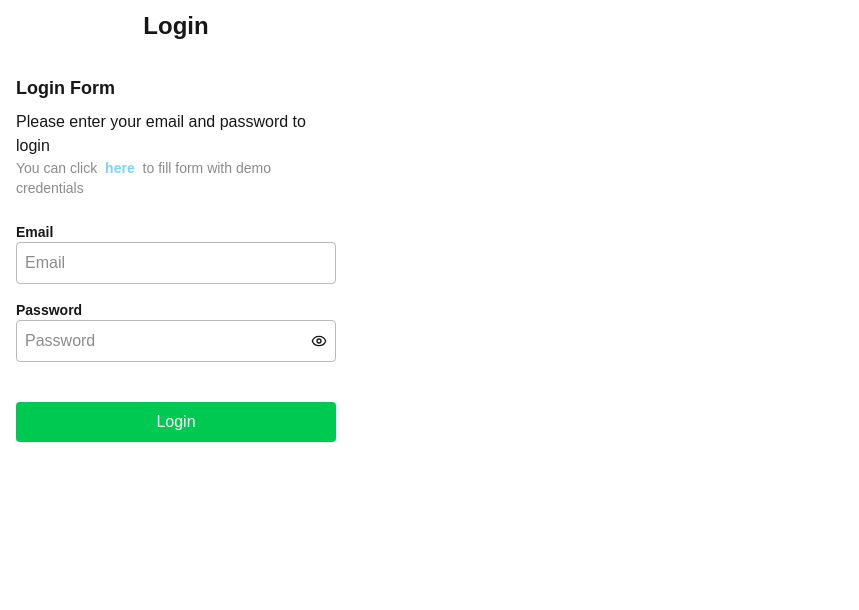
Test: Auth Flow › should login with demo credentials
# Fill in credentials
Click the button with aria-label "Fill form with demo credentials".
click(120, 168)  # box [101,158,139,178]
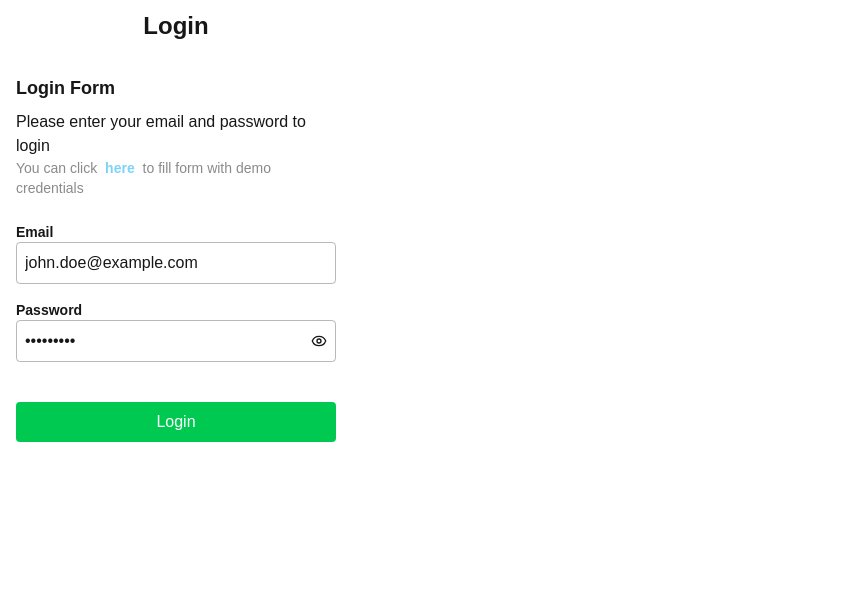
Expected: the submit button is enabled
Expected: the field named "email" holds "john.doe@example.com", [25,251,327,275]
Expected: the password field named "password" holds "Admin123@", [25,329,303,353]
# Wait for button to be enabled
Click the submit button.
click(176, 422)  # box [16,402,336,442]
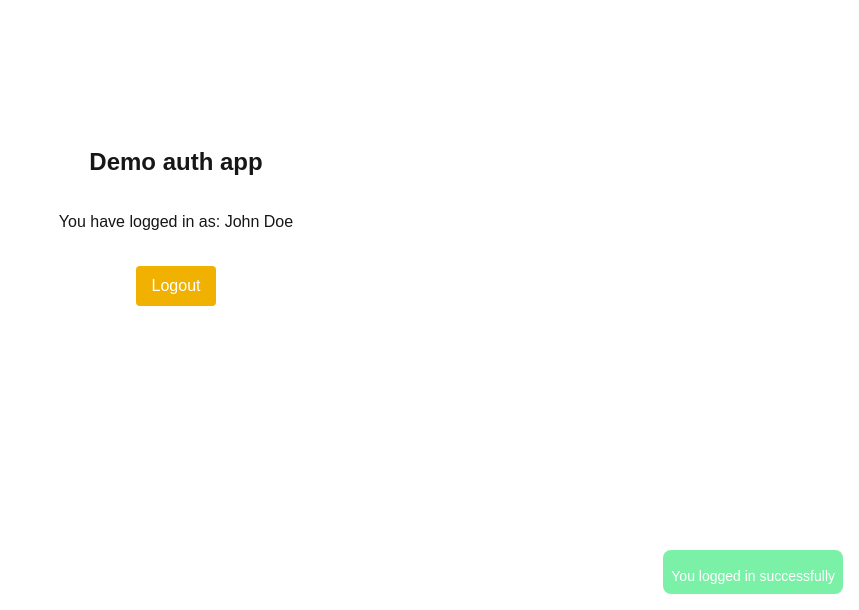
Expected: the text "You logged in successfully" is shown, [671,566,835,586]
Expected: the heading "You have logged in as: John Doe" is shown, [59,210,293,234]
Expected: the text with id "user-name" reads "John Doe", [225,213,294,230]
